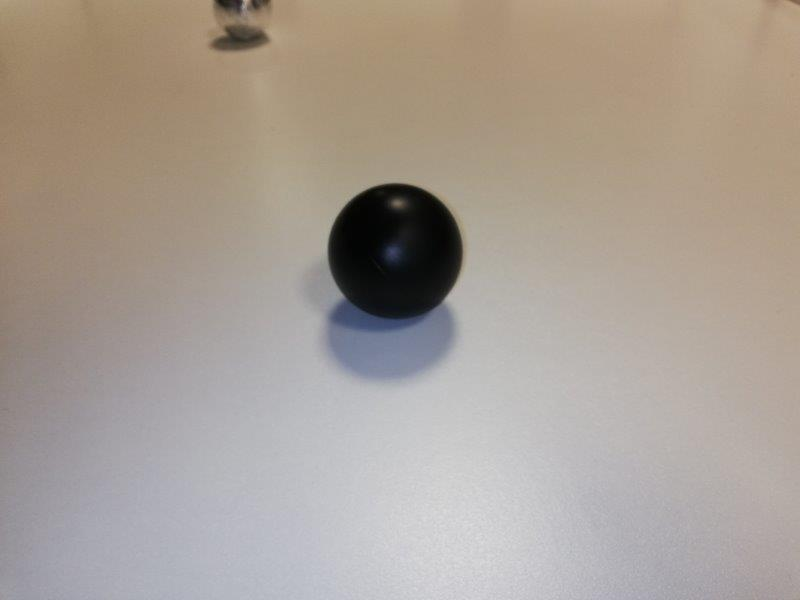bianca: (211, 2, 272, 40)
nera: (327, 183, 464, 318)
